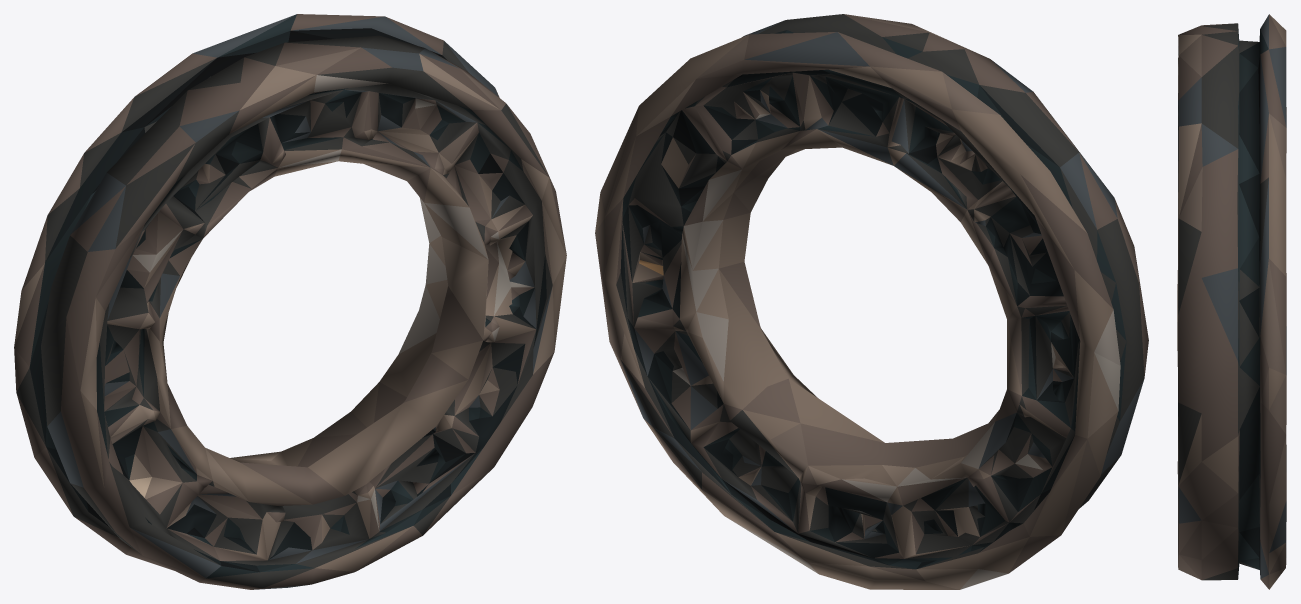
Rendered from fx_nova_ring.glb.
3 renders of one model, left to right at view 1: azimuth 30°, elevation 25°; view 2: azimuth 150°, elevation 25°; view 3: azimuth 270°, elevation 25°, orthographic. The views are drawn at different scales.
Visible parts, largest first — view 1: Mesh_0; view 2: Mesh_0; view 3: Mesh_0.
Part boxes in pixels (left/top/right/bottom): Mesh_0: left=14, top=14, right=566, bottom=589; Mesh_0: left=595, top=14, right=1148, bottom=589; Mesh_0: left=1177, top=14, right=1286, bottom=589.
Size of the model in its own units: 0.3003 by 0.3 by 0.0567.
Materials: 1 (1 with a texture image).
